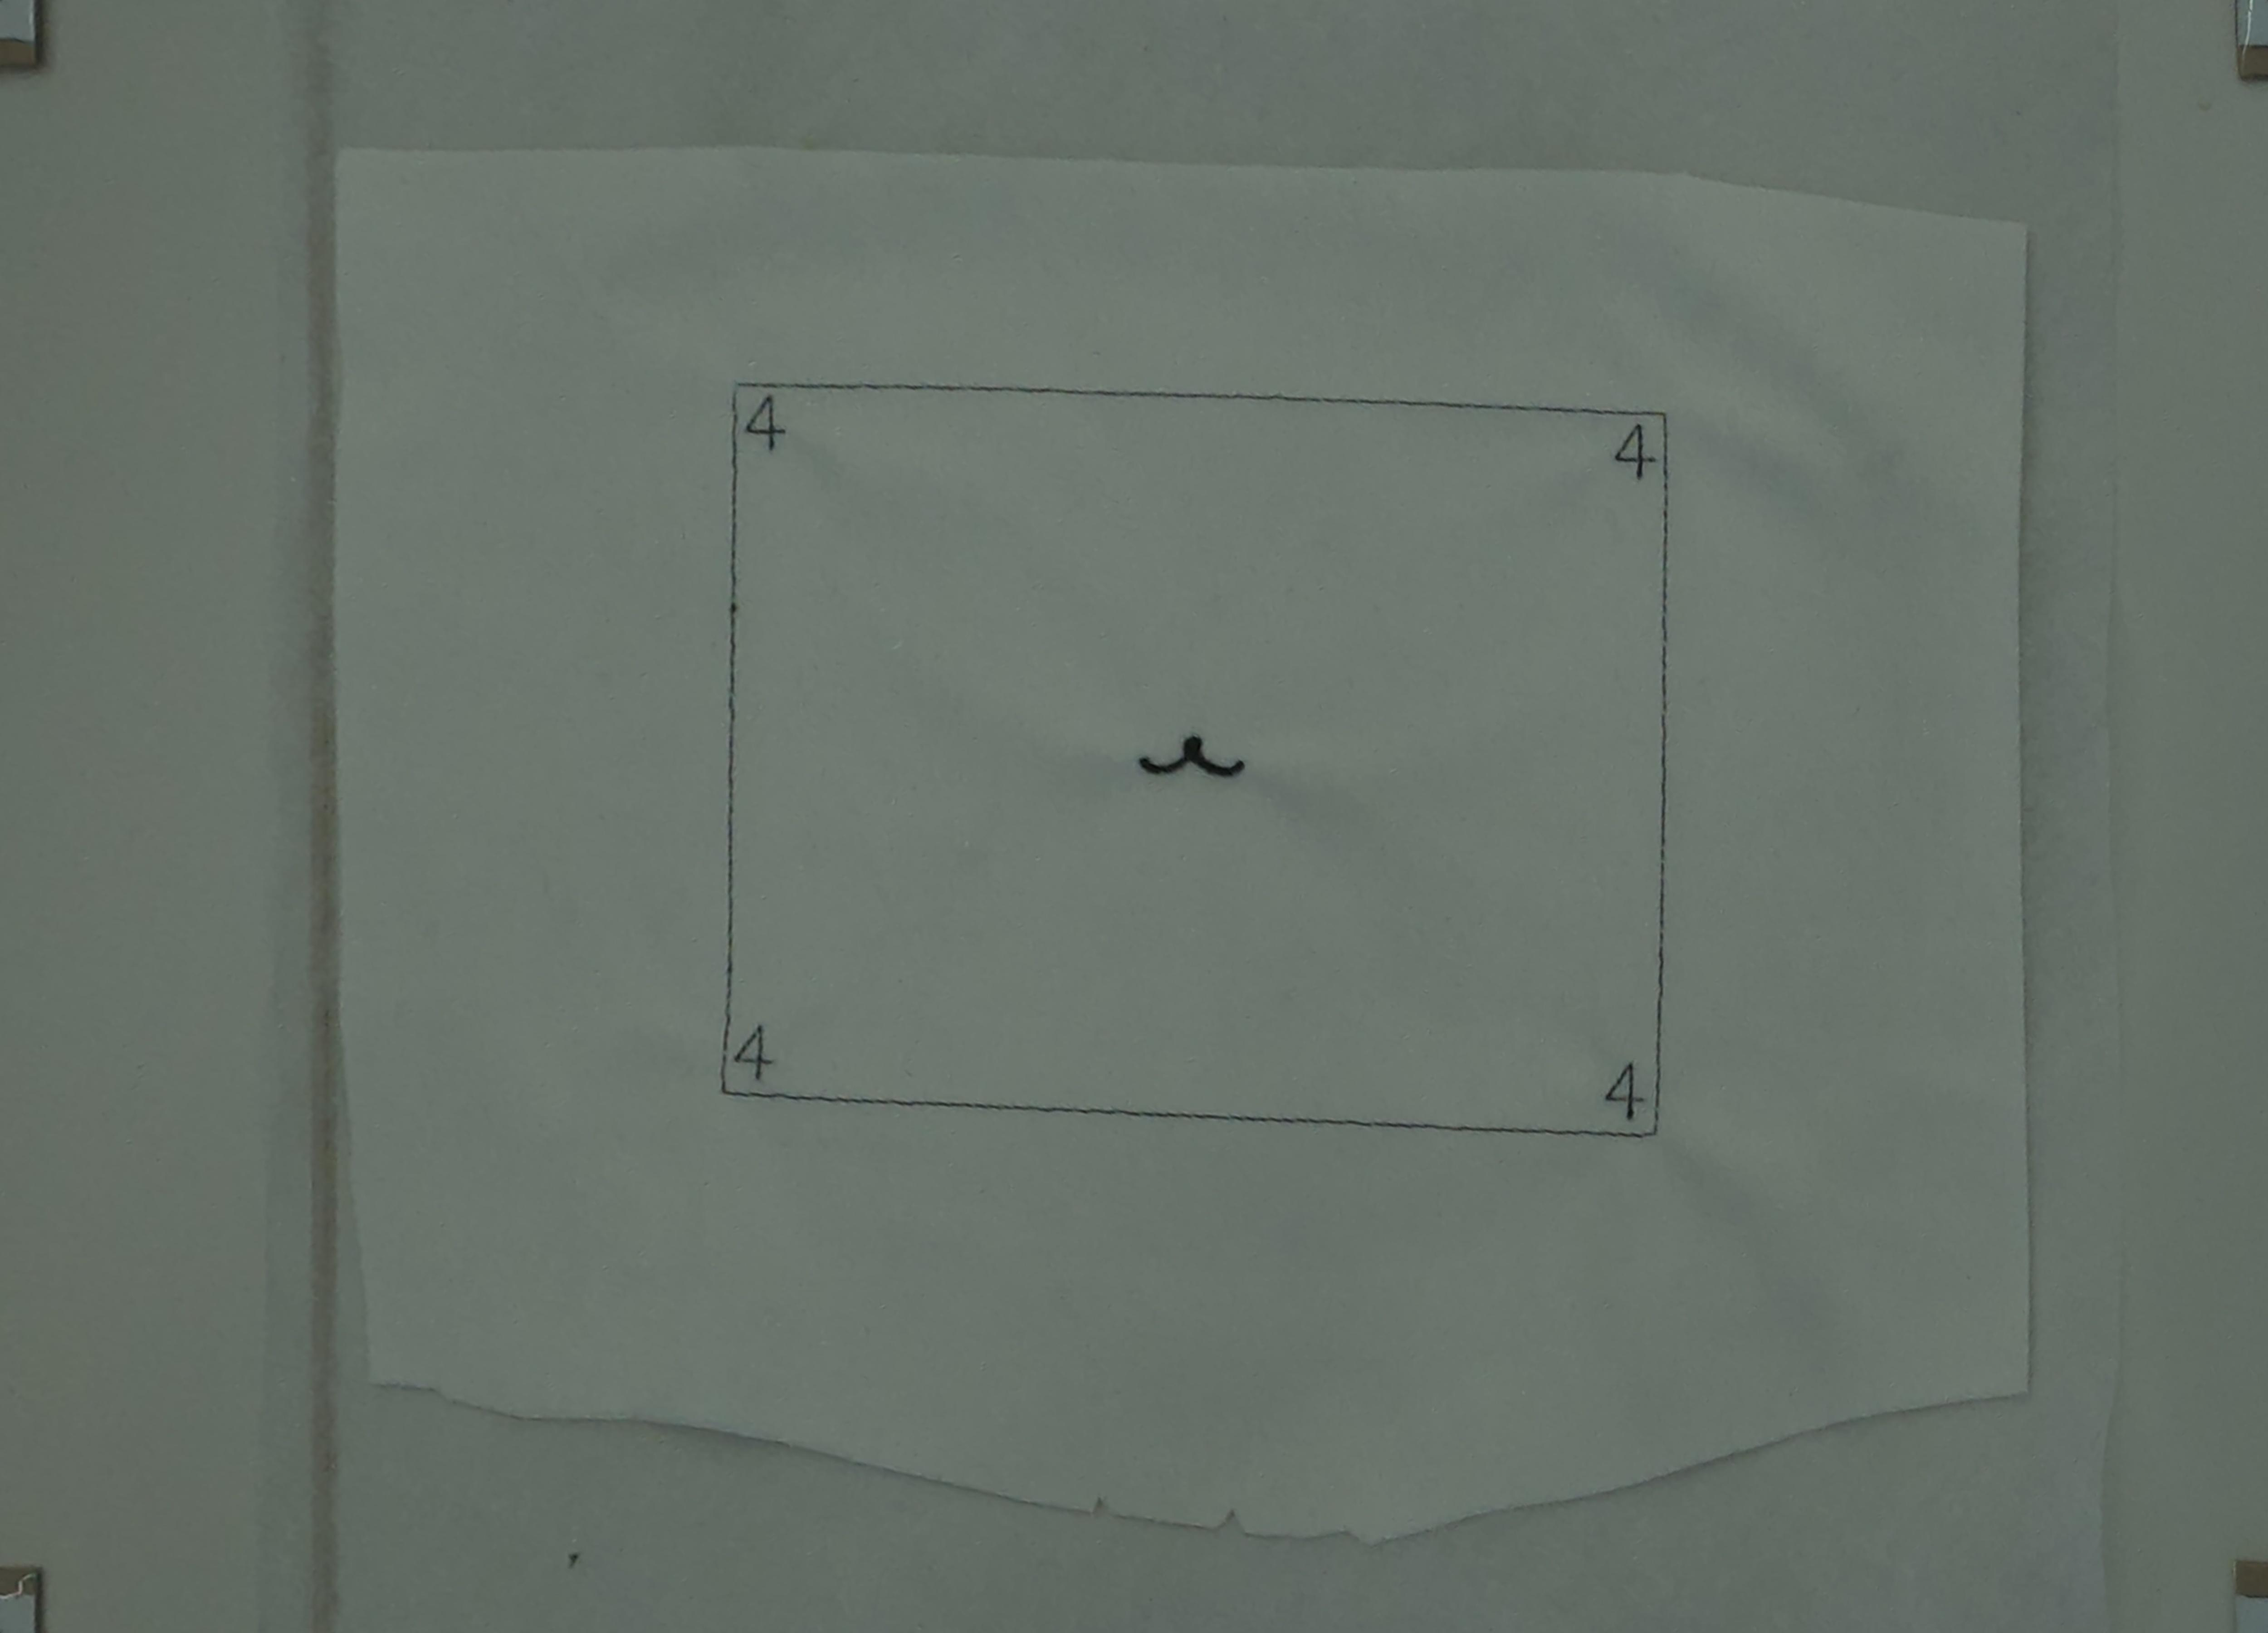4 -: (1585, 1048, 1652, 1127), (1599, 421, 1660, 486), (743, 389, 794, 460), (738, 1016, 780, 1083)
